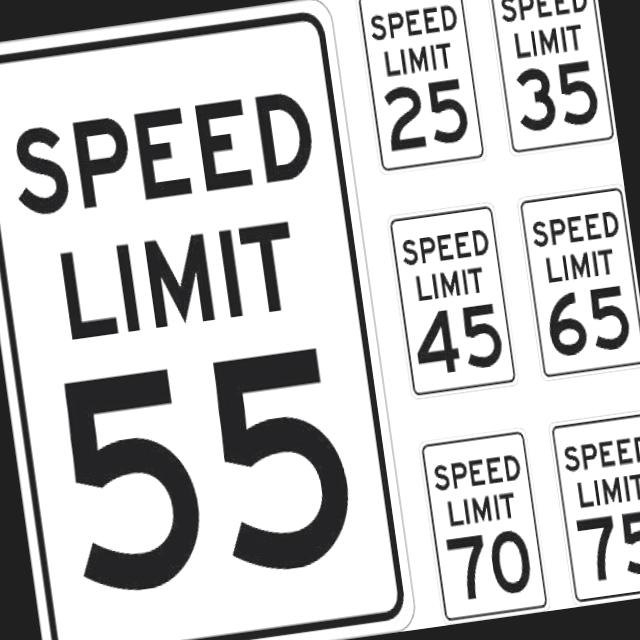Speed Limit Signs: (0, 1, 419, 640), (384, 201, 521, 404), (418, 418, 554, 620), (522, 179, 640, 377), (360, 0, 489, 171), (487, 0, 616, 157), (553, 402, 640, 606)
